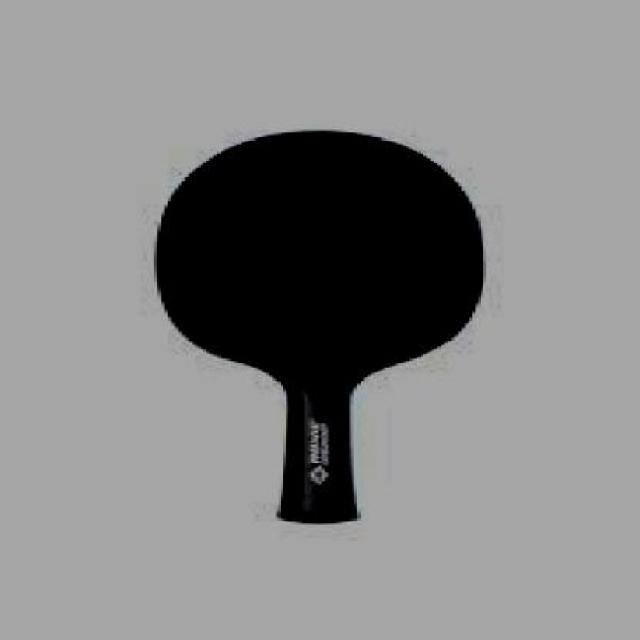table_tennis_racket: (150, 121, 488, 382)
